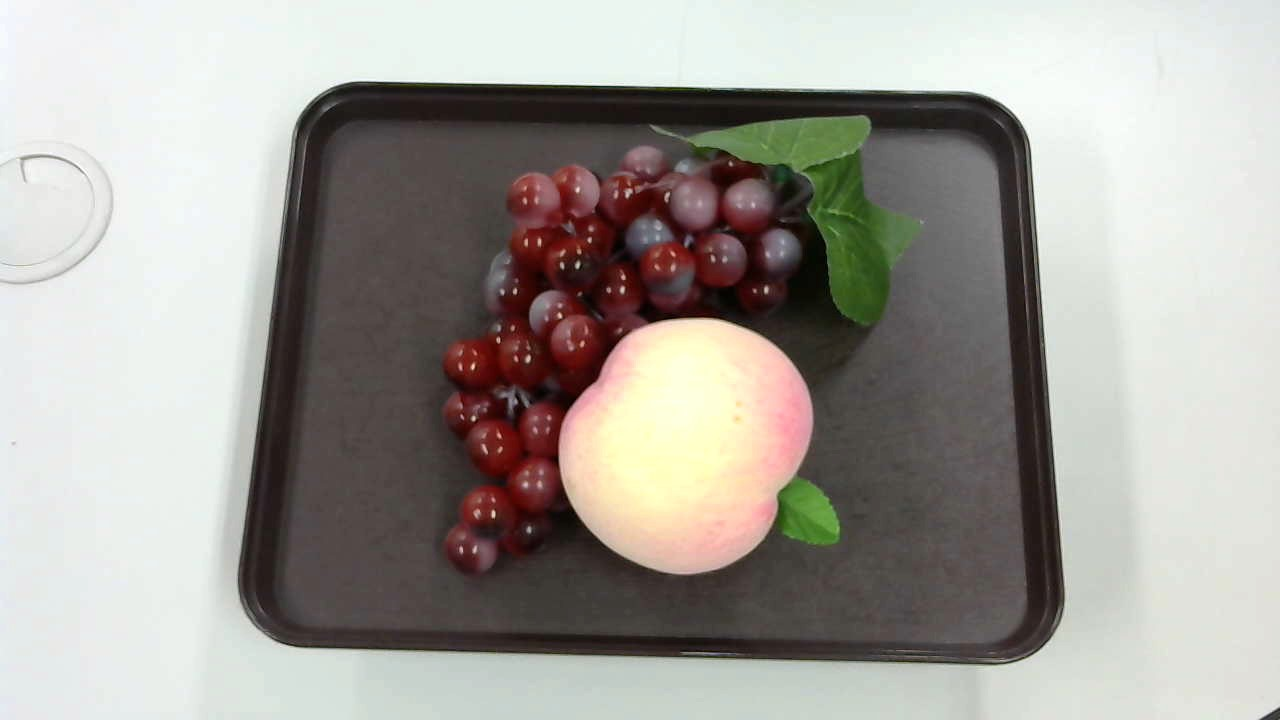grape: (434, 112, 927, 593)
peach: (557, 319, 842, 574)
